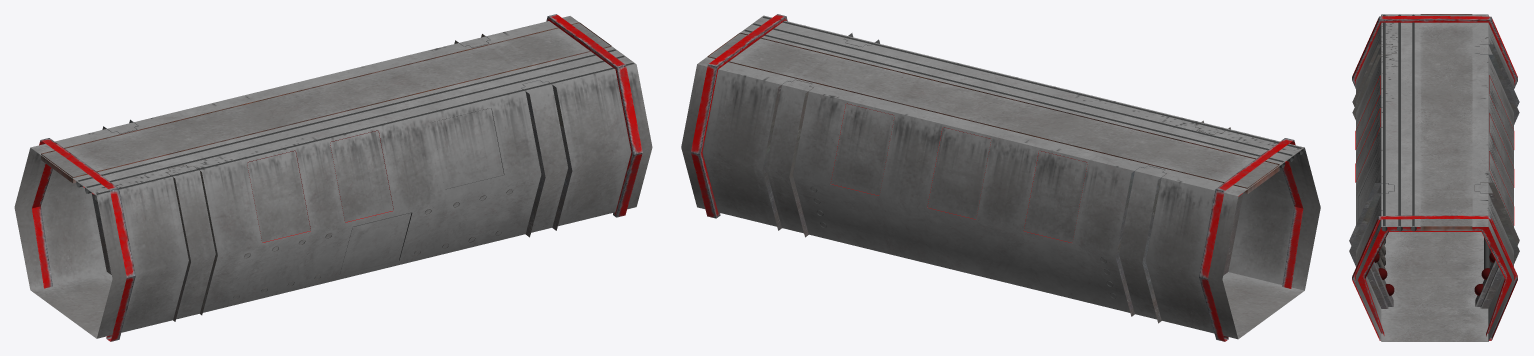
The model's file is Makovec_Hallway.fbx.
3 views of the same model, side by side, from view 1: azimuth 30°, elevation 25°; view 2: azimuth 150°, elevation 25°; view 3: azimuth 270°, elevation 25° (orthographic). The views are drawn at different scales.
Parts seen in each view (by area): view 1: Hallway1; view 2: Hallway1; view 3: Hallway1.
Boxes of the visible parts, x1,y1,x2,y2 form: Hallway1: (14, 14, 652, 341); Hallway1: (681, 14, 1320, 341); Hallway1: (1349, 14, 1519, 341).
Size of the model in its own units: 88.4 by 23.68 by 30.03.
13 materials, 13 textured.
